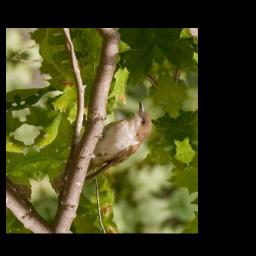Cuckoo: (33, 99, 168, 196)
